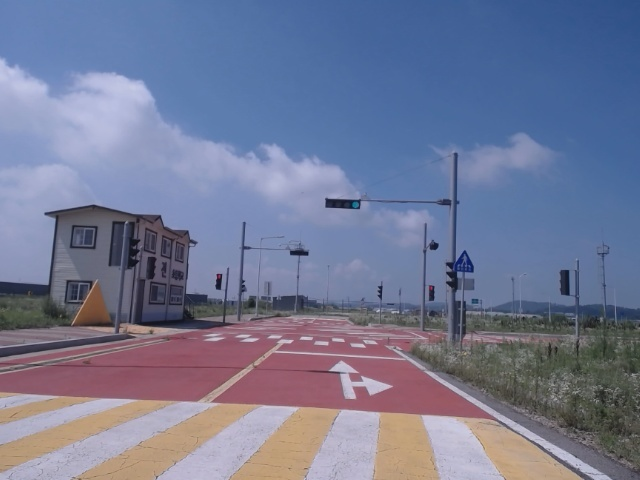straight_green_4: (326, 200, 361, 209)
